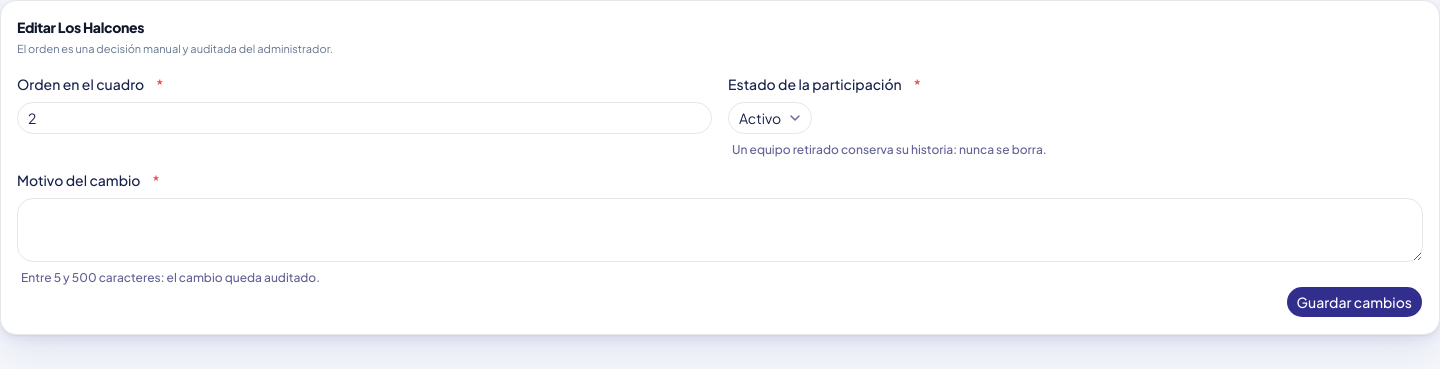
Test: CompetenciaEquipoEdicionEditor › exige el motivo AUDITADO antes de enviar
Click the button "Guardar cambios": (1354, 302) [1286,286,1423,318]
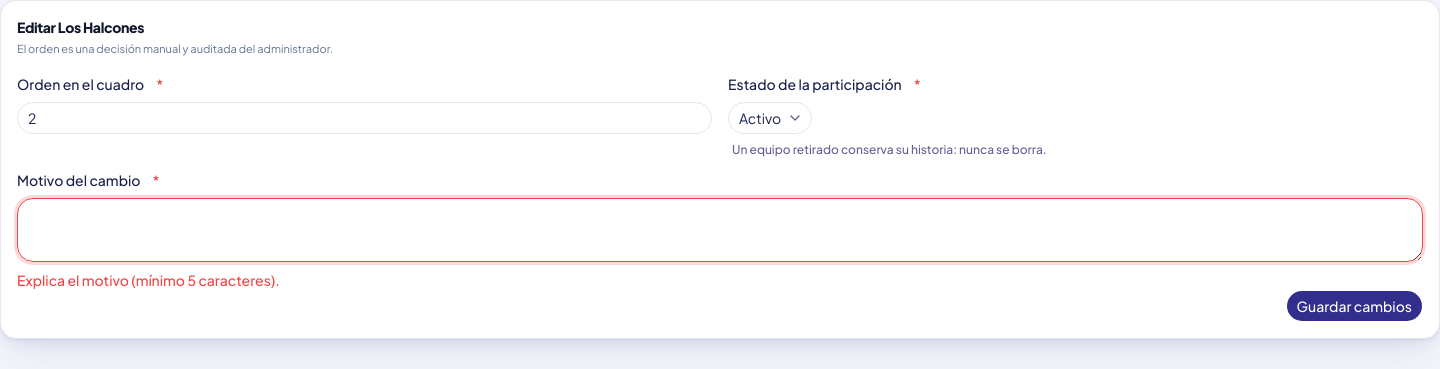
Result: the text "Explica el motivo (mínimo 5 caracteres)." is shown at [17,270,280,288]
